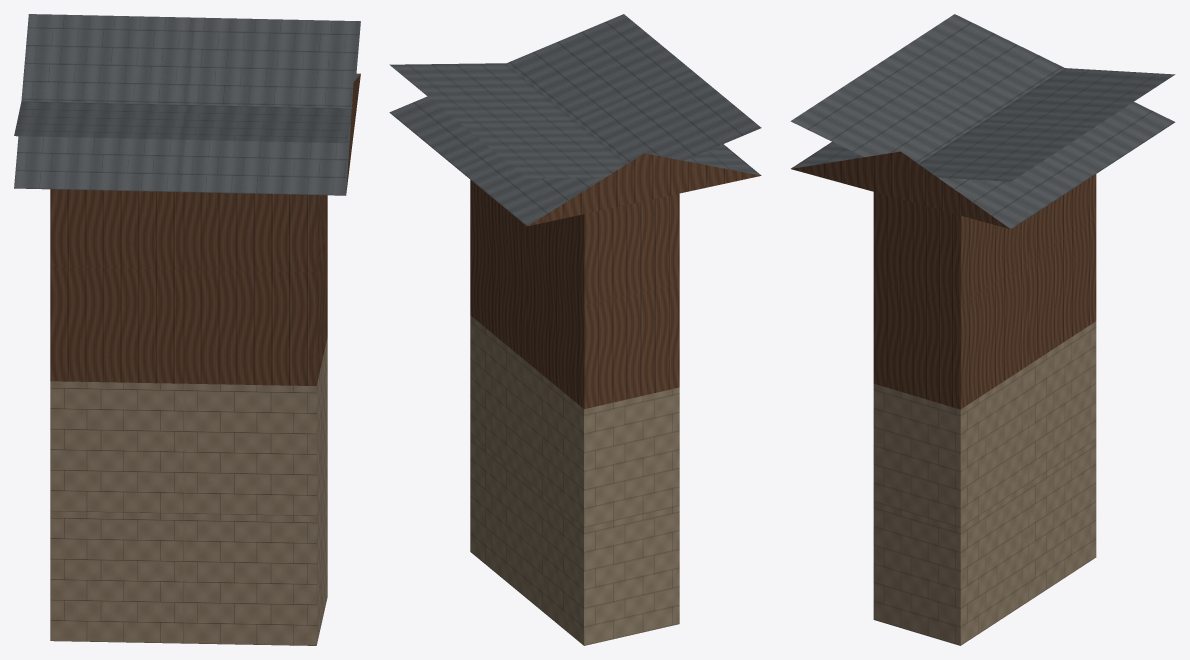
Rendered from bld_c31_-38_466.gltf.
3 renders of one model, left to right at view 1: azimuth 30°, elevation 25°; view 2: azimuth 150°, elevation 25°; view 3: azimuth 270°, elevation 25°, orthographic. The views are drawn at different scales.
Visible parts, largest first — view 1: bld_c31_-38_466; view 2: bld_c31_-38_466; view 3: bld_c31_-38_466.
Boxes of the visible parts, x1,y1,x2,y2 form: bld_c31_-38_466: (14, 14, 360, 645); bld_c31_-38_466: (389, 14, 761, 645); bld_c31_-38_466: (790, 14, 1175, 645).
Bounding box in the file's own units: 7.54 × 10.3 × 7.32.
4 materials, 4 textured.
